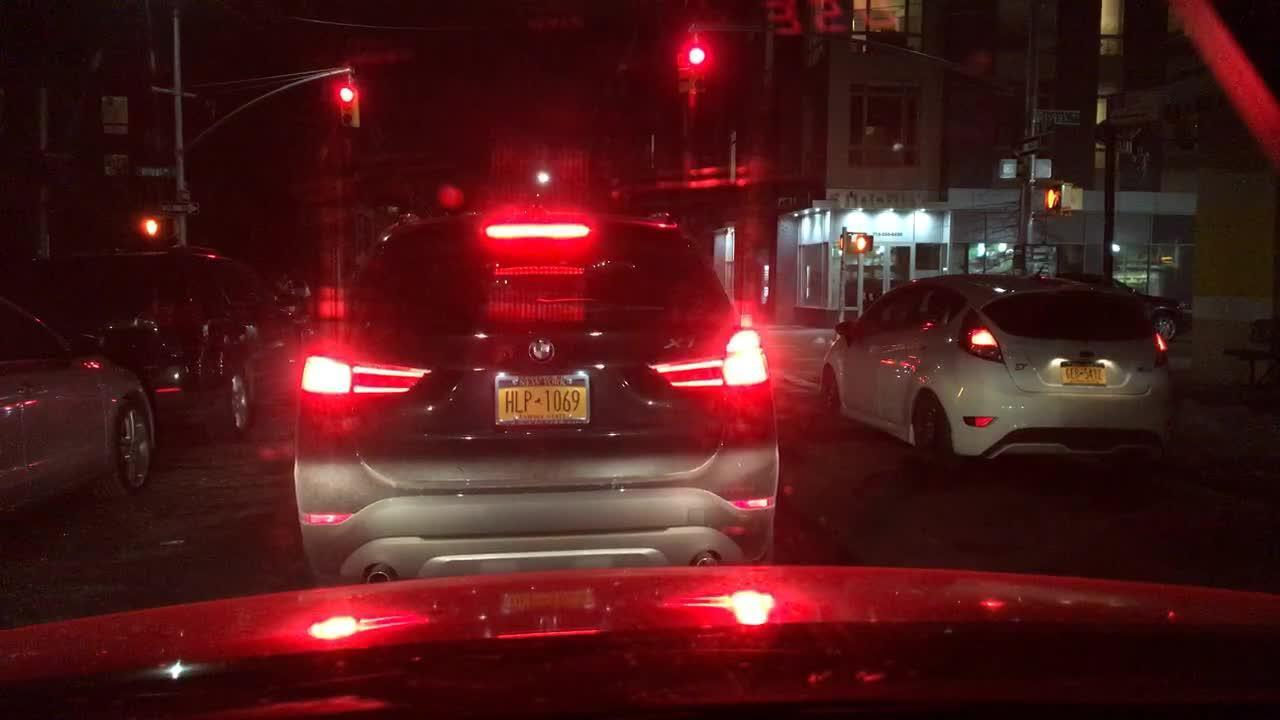bmw: (521, 325, 562, 370)
